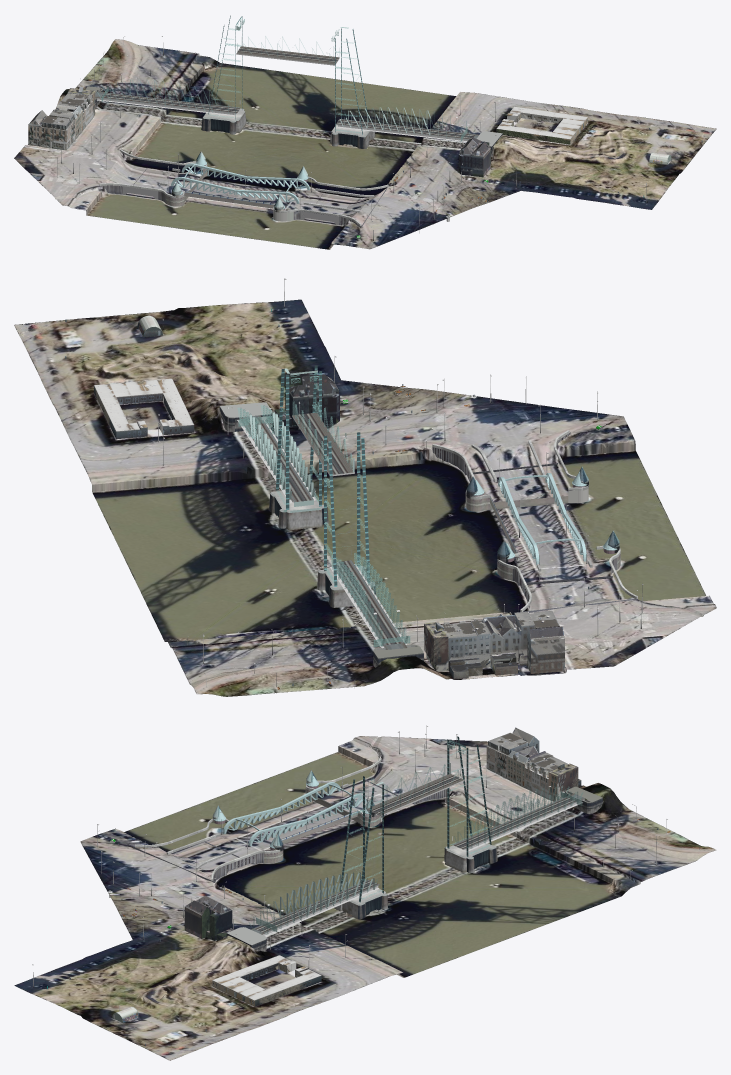
3 renders of one model, top to bottom at view 1: azimuth 30°, elevation 25°; view 2: azimuth 150°, elevation 25°; view 3: azimuth 270°, elevation 25°, orthographic. The views are drawn at different scales.
Size of the model in its own units: 358 by 68.6 by 330.
124 materials, 122 textured.
